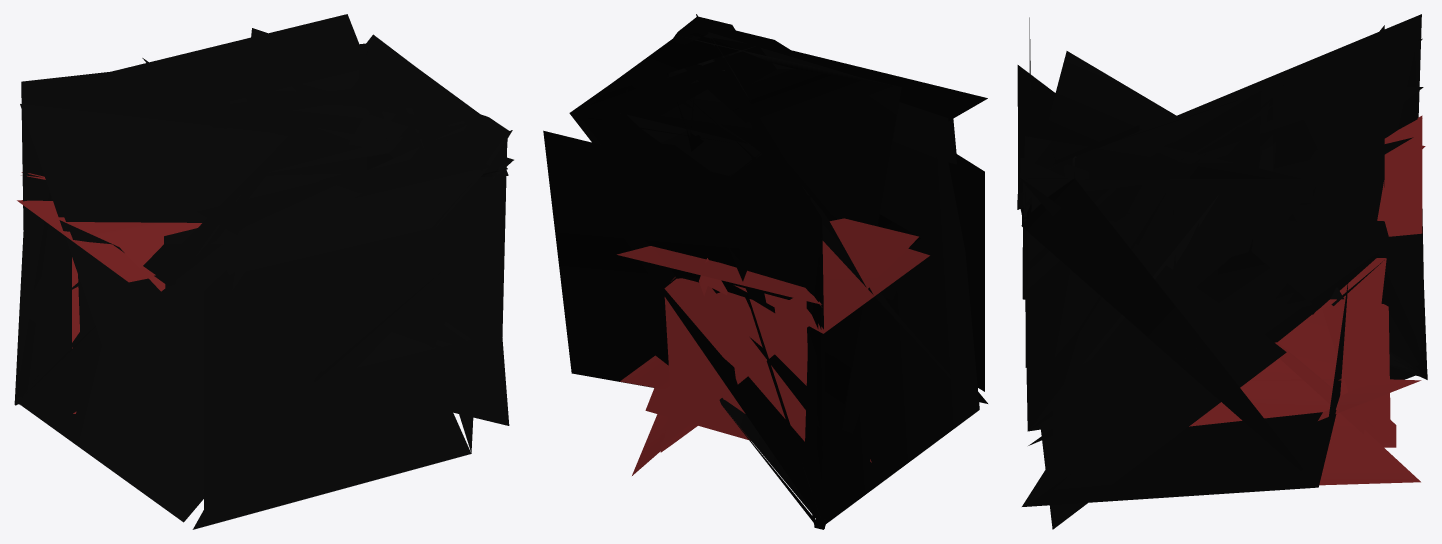
File: boombox.gltf
The picture shows the model from 3 angles, left to right: view 1: azimuth 30°, elevation 25°; view 2: azimuth 150°, elevation 25°; view 3: azimuth 270°, elevation 25°; orthographic projection. The views are drawn at different scales.
Parts seen in each view (by area): view 1: Bumbox_0; view 2: Bumbox_0; view 3: Bumbox_0.
Part boxes in pixels (x1,y1,x2,y2): Bumbox_0: (14, 14, 513, 529); Bumbox_0: (543, 14, 987, 529); Bumbox_0: (1017, 14, 1427, 529).
Size of the model in its own units: 4.59e-42 by 4.58e-42 by 4.59e-42.
Materials: 2 (1 with a texture image).
